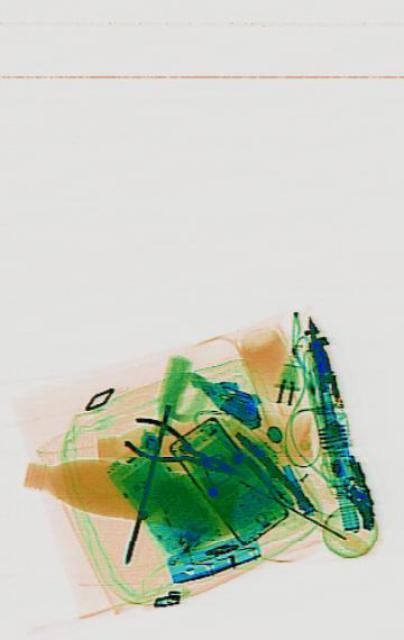Pliers: (120, 406, 244, 489)
